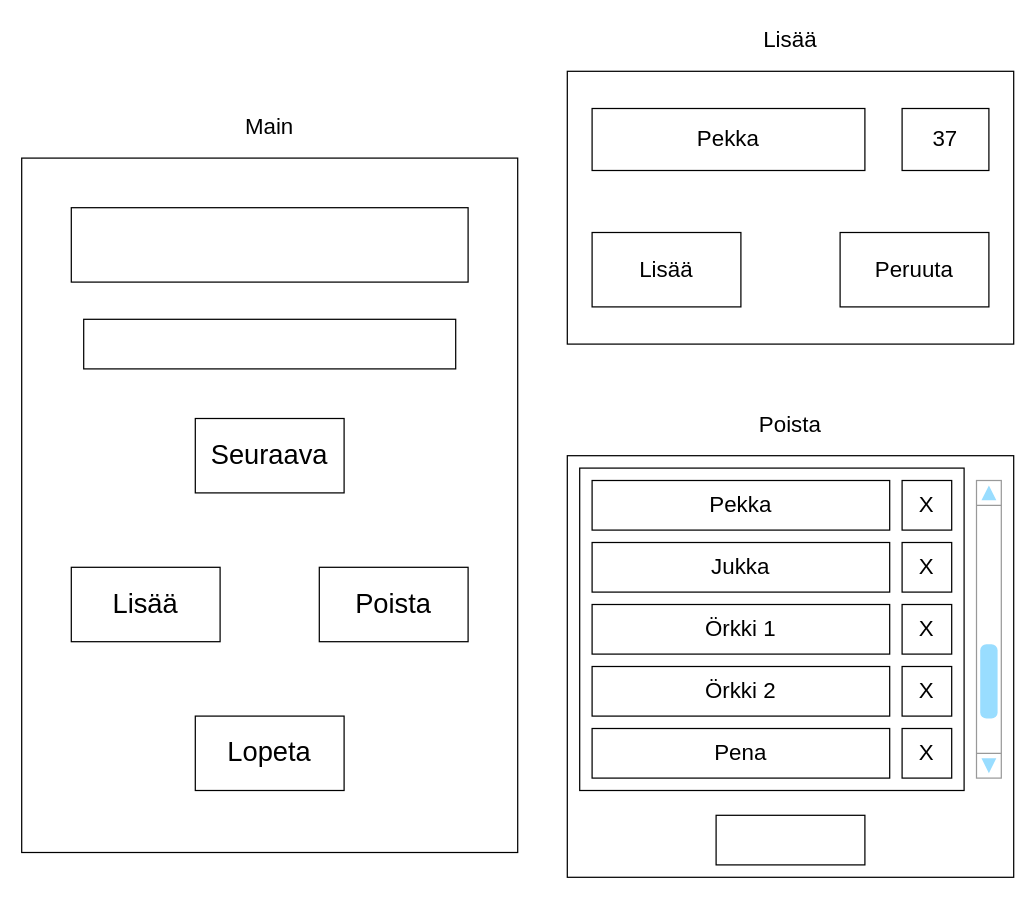
Image size: 1035x899. Some labels were removed from this diagram. Here are the shapes that lost their labels. From the top down, the centre of each, then its label:
point 269,244: Pekka 37
point 269,343: Jukka 34
point 790,839: Poistu
